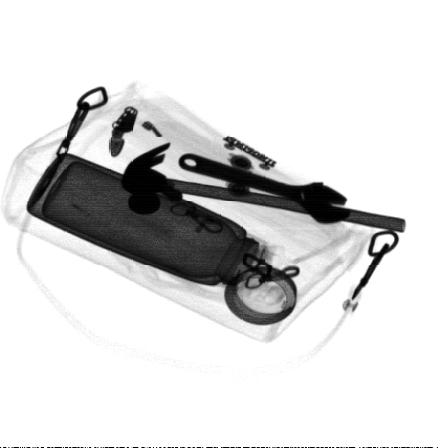Hammer: (122, 141, 404, 232)
Wrench: (177, 151, 353, 225)
